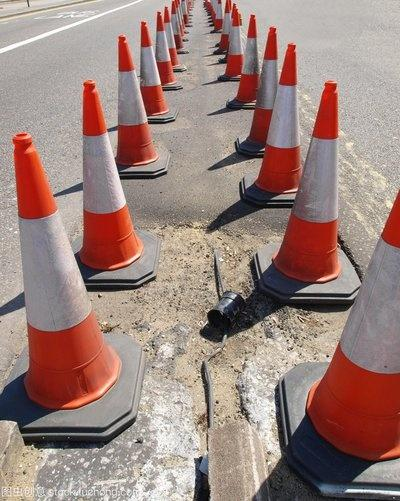cone_barrel: (298, 190, 399, 472), (266, 83, 357, 291), (66, 84, 147, 285), (252, 39, 306, 194), (108, 33, 162, 171), (245, 26, 278, 143), (139, 19, 169, 116), (230, 13, 258, 103), (152, 10, 175, 88), (222, 10, 243, 76), (160, 4, 176, 72)
